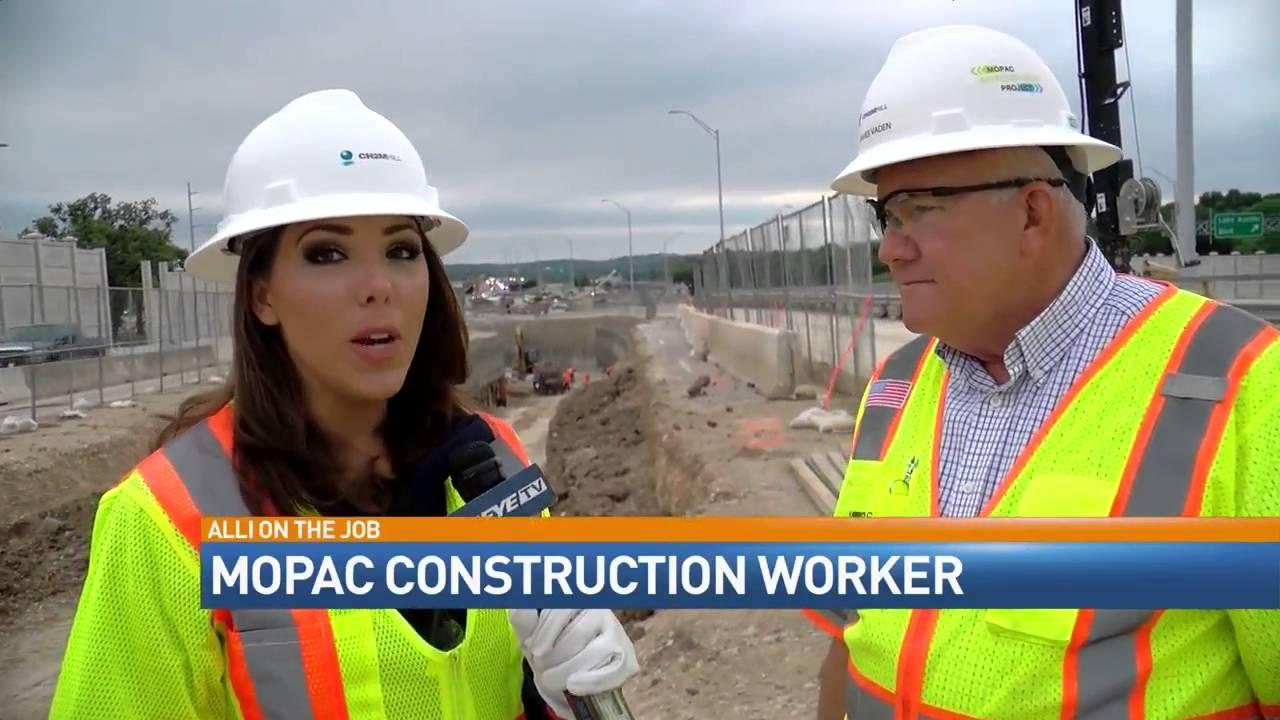helmet: (181, 86, 466, 271), (831, 28, 1125, 207)
wear: (817, 334, 1280, 720), (45, 414, 575, 720)
